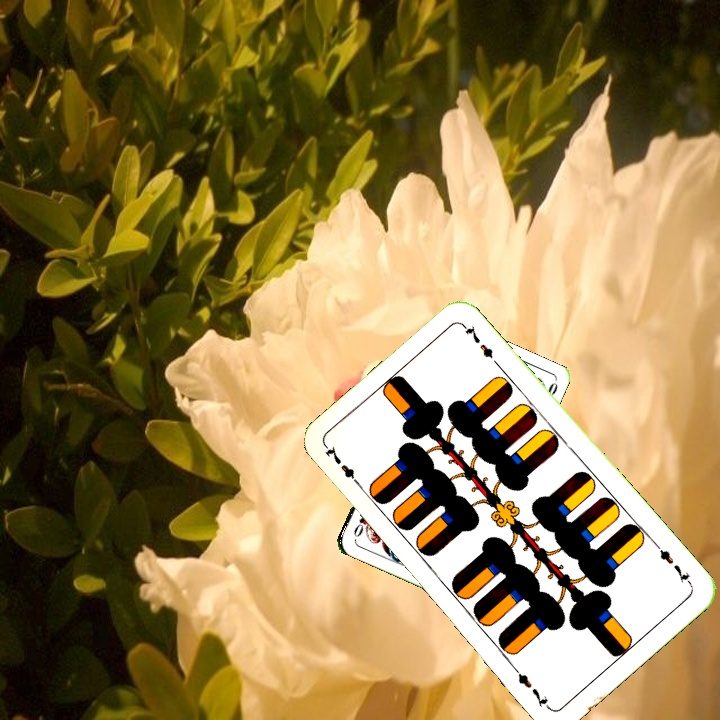E7: (651, 539, 695, 588), (321, 442, 365, 491)
